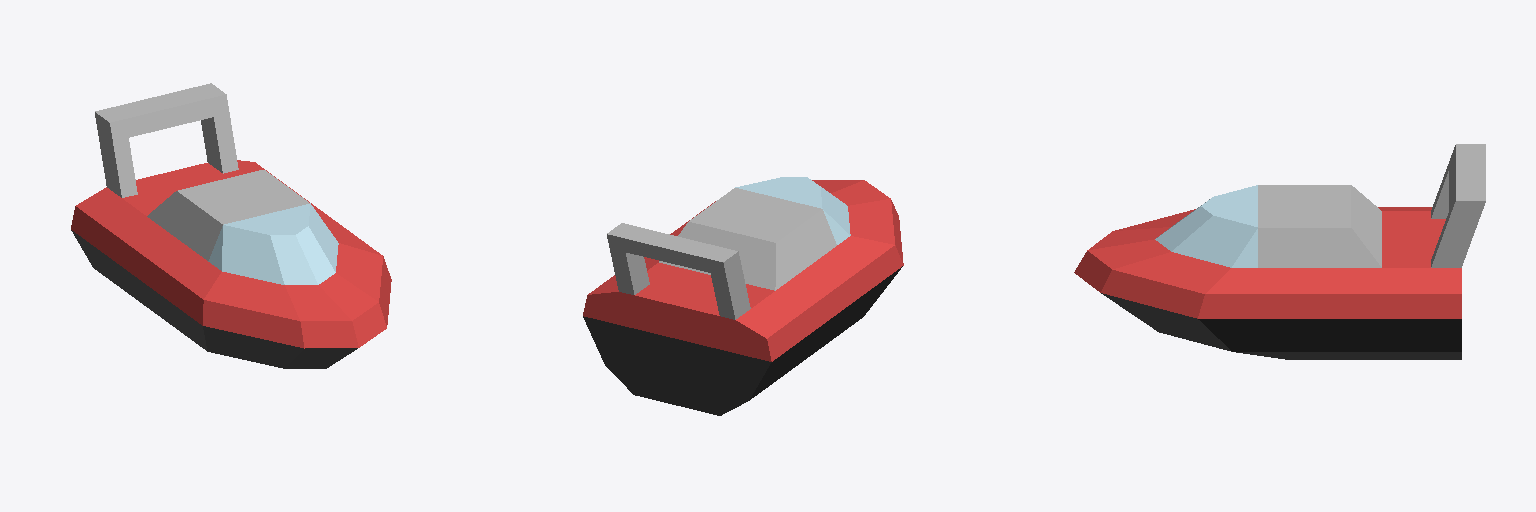
Rendered from watercraftPack_018.obj.
3 views of the same model, side by side, from view 1: azimuth 30°, elevation 25°; view 2: azimuth 150°, elevation 25°; view 3: azimuth 270°, elevation 25° (orthographic).
Parts seen in each view (by area): view 1: Mesh1 Group1 Model; view 2: Mesh1 Group1 Model; view 3: Mesh1 Group1 Model.
Part boxes in pixels (x1,y1,x2,y2): Mesh1 Group1 Model: (71, 83, 391, 368); Mesh1 Group1 Model: (583, 177, 903, 415); Mesh1 Group1 Model: (1074, 144, 1485, 359).
Size of the model in its own units: 1.78 by 1.5 by 3.37.